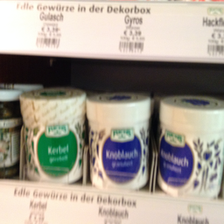spices: (156, 94, 224, 198), (84, 91, 151, 190), (20, 87, 82, 182)
